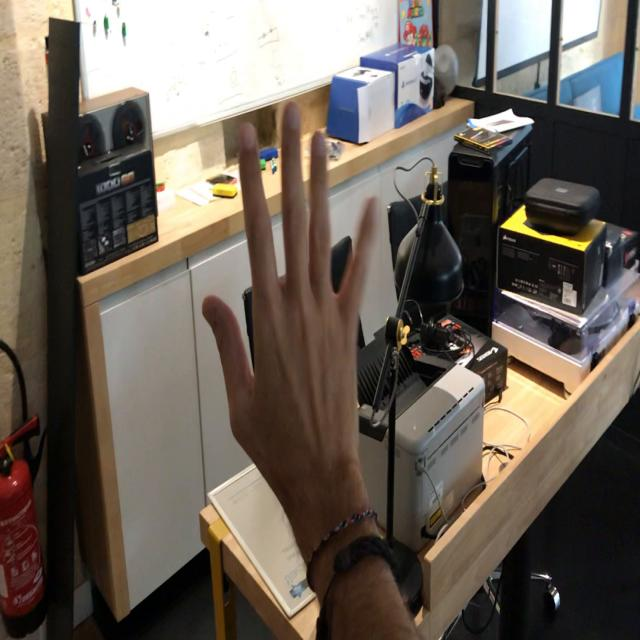hand: (201, 95, 380, 495)
